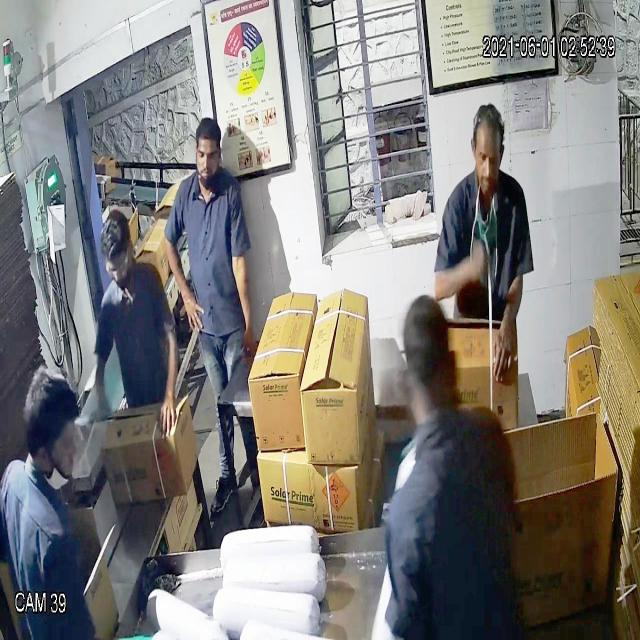glasses: (102, 243, 134, 287)
no-glass: (187, 138, 228, 172), (470, 140, 506, 172)
